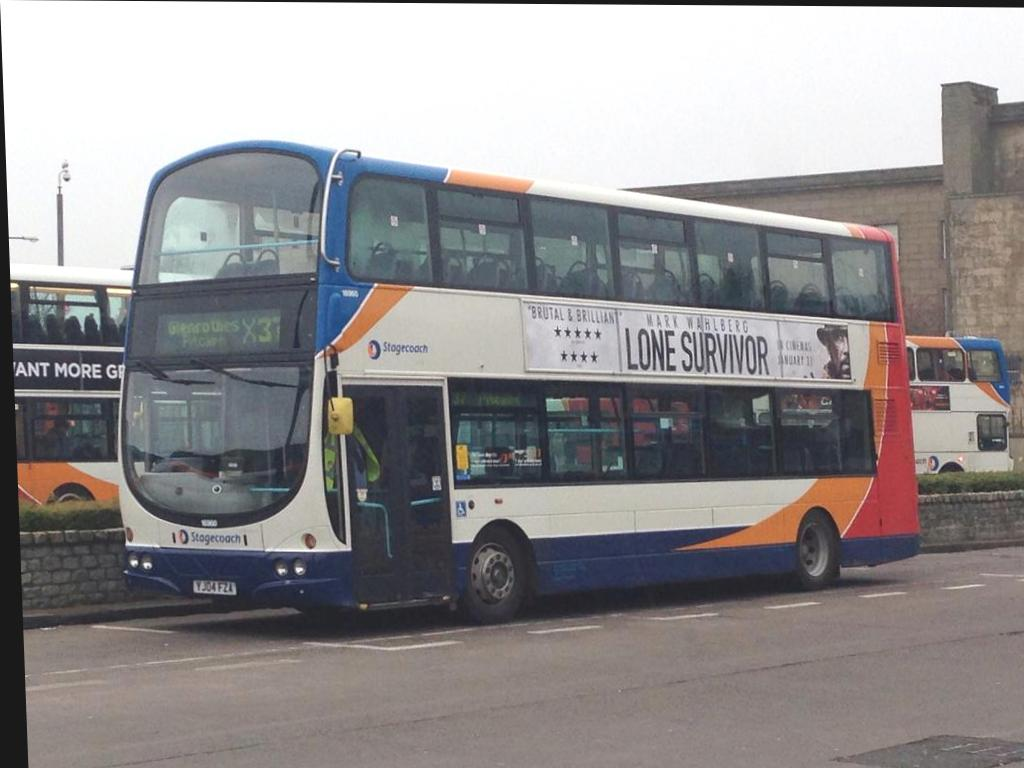License_Plate: (191, 577, 238, 597)
